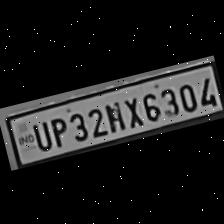0: (172, 78, 197, 112)
2: (82, 102, 108, 138)
3: (63, 106, 89, 142), (156, 83, 180, 117)
4: (192, 72, 218, 108)
6: (136, 88, 162, 122)
M: (100, 97, 125, 133)
P: (45, 112, 70, 148)
U: (26, 118, 52, 152)
X: (119, 92, 143, 128)
